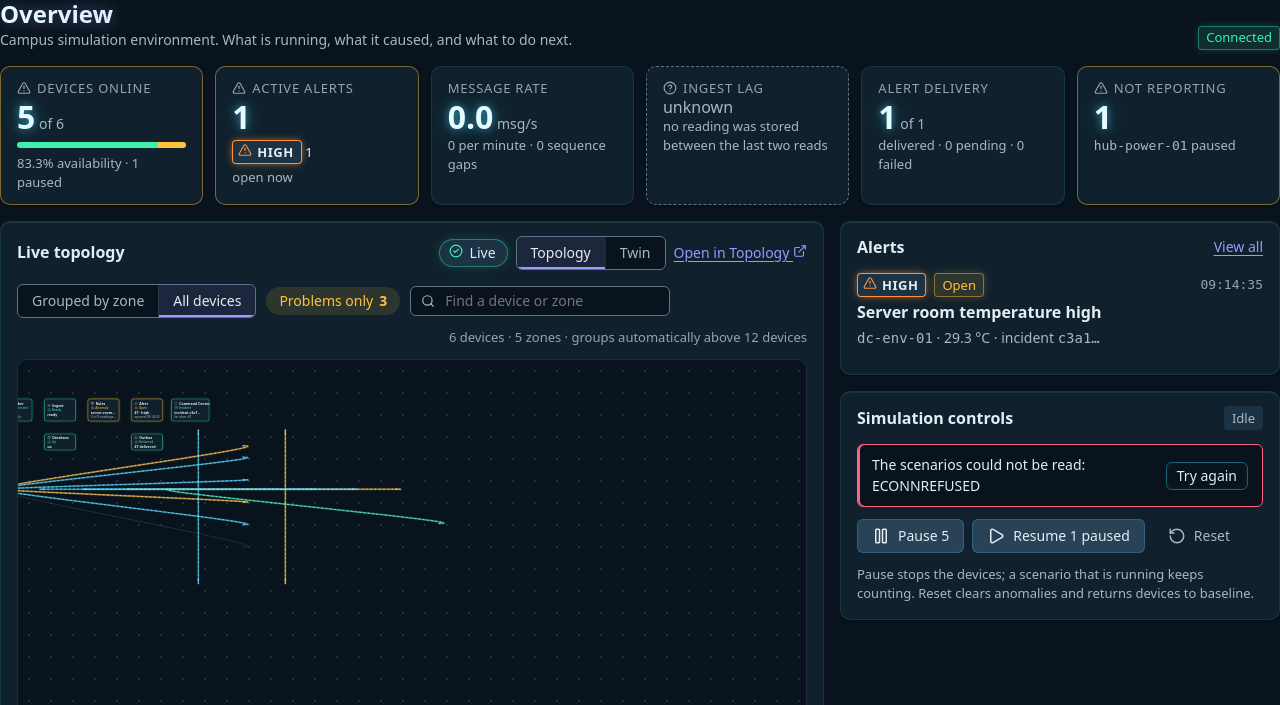
it: the controls › say the library could not be read, and try again
Expected: the message shows "The scenarios could not be read: ECONNREFUSED", [857,444,1263,507]
Expected: the button "Reset" is enabled, [1153,519,1245,553]
Click the button "Try again": (1207, 476) [1166,462,1248,490]
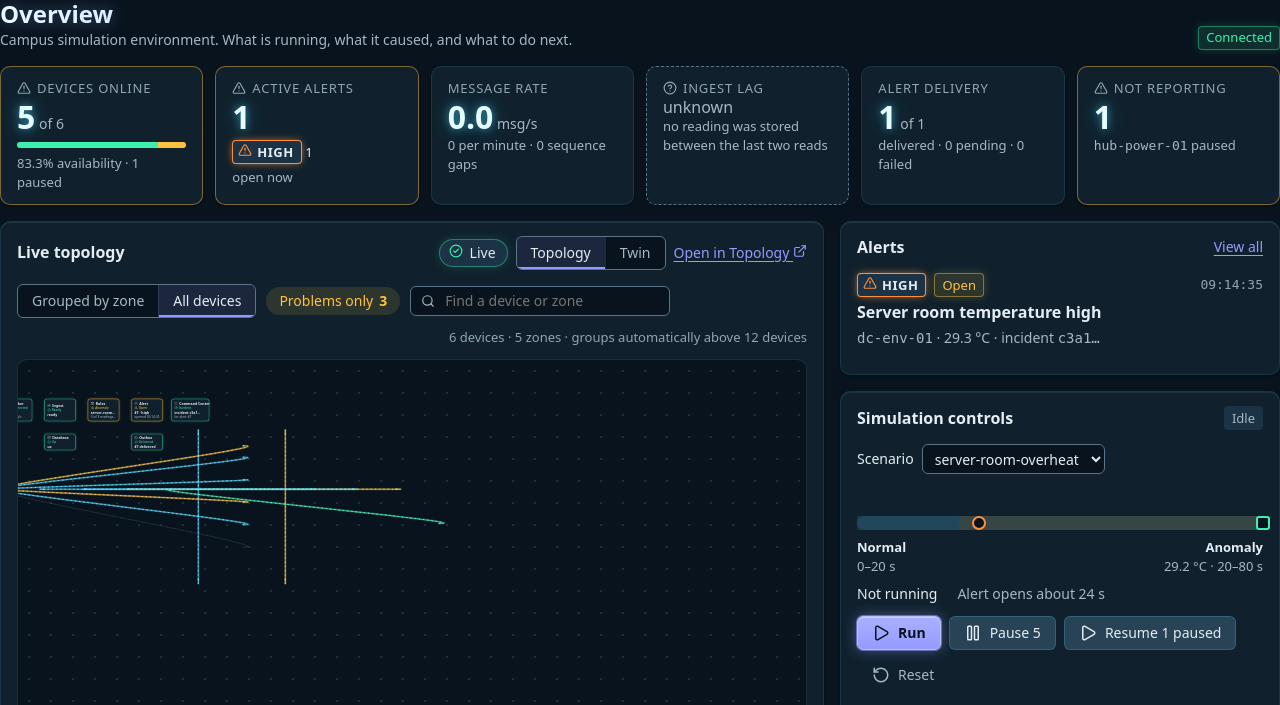
Expected: the dropdown labelled "Scenario" is shown, [922,444,1105,474]
